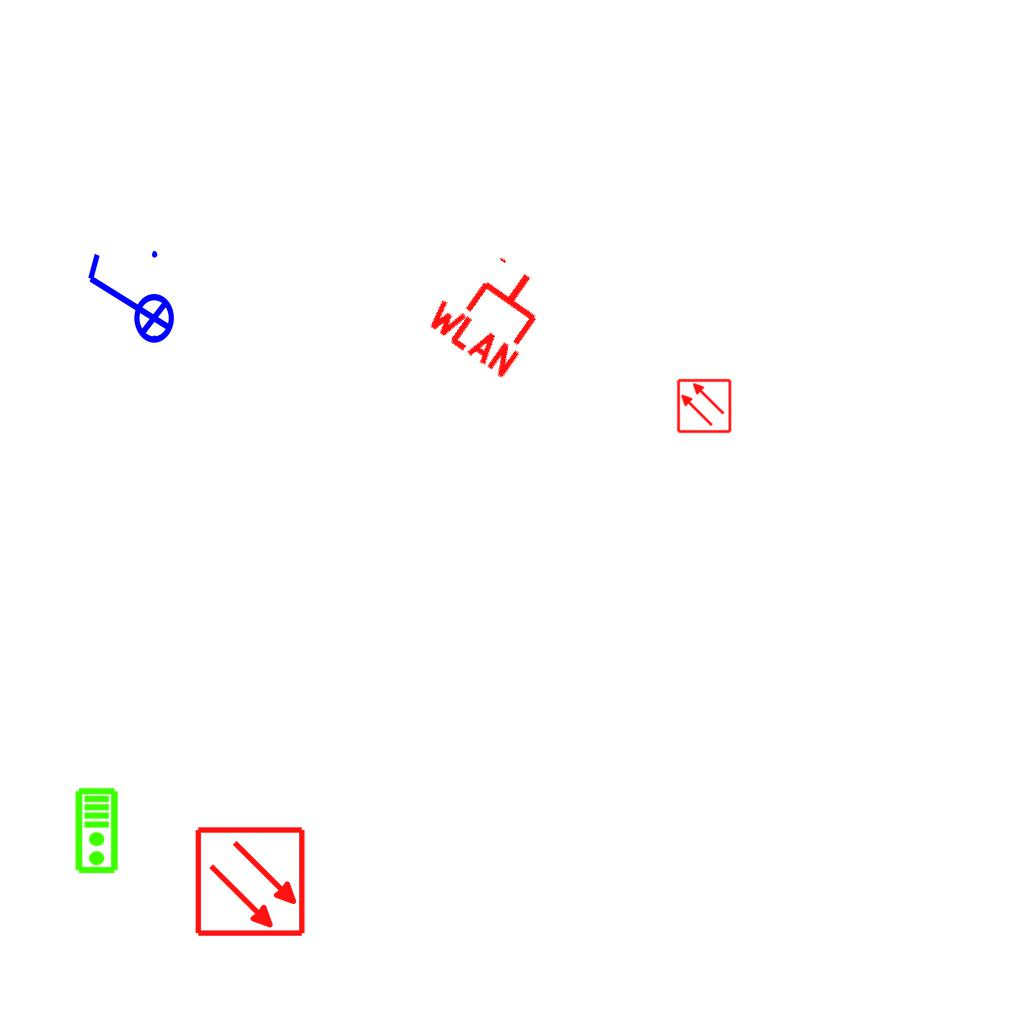Ausschalter_beleuchtet: (80, 245, 176, 357)
Gegensprechanlage_mit_Video: (74, 787, 121, 875)
RMO_Rauchmelder_optischer: (194, 825, 307, 938), (676, 378, 732, 434)
WLAN: (419, 237, 566, 383)
